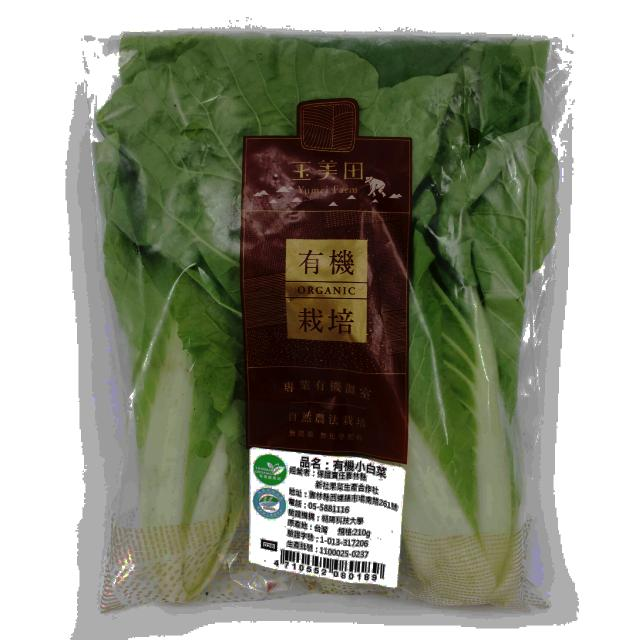chinese_cabbage: (98, 9, 560, 614)
